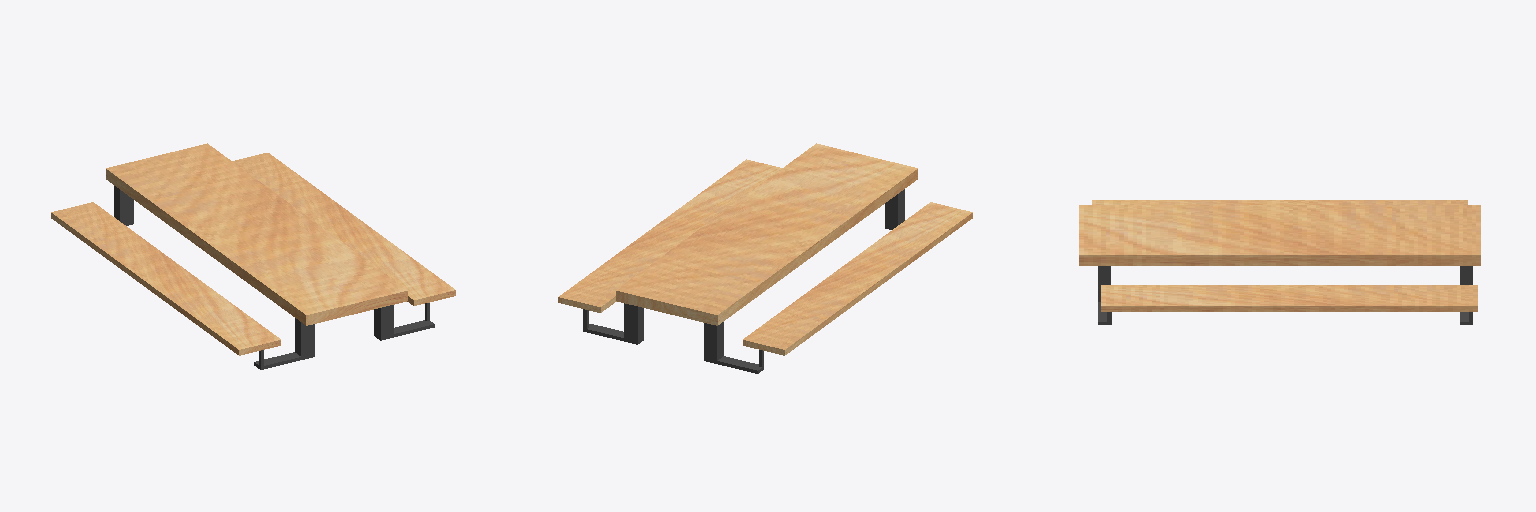
3 views of the same model, side by side, from view 1: azimuth 30°, elevation 25°; view 2: azimuth 150°, elevation 25°; view 3: azimuth 270°, elevation 25° (orthographic).
Parts seen in each view (by area): view 1: LunchTable; view 2: LunchTable; view 3: LunchTable.
Part boxes in pixels (left/top/right/bottom): LunchTable: left=51, top=143, right=455, bottom=369; LunchTable: left=558, top=143, right=972, bottom=373; LunchTable: left=1079, top=200, right=1480, bottom=324.
Bounding box in the file's own units: 6.88 × 1.56 × 10.78.
2 materials, 1 textured.